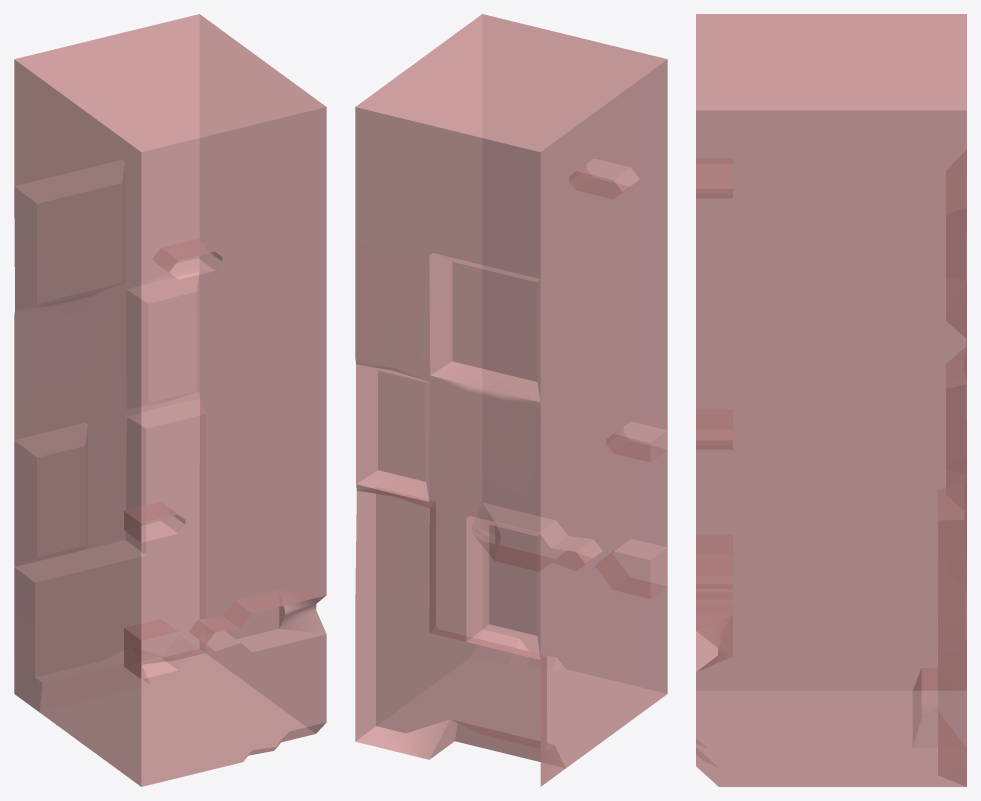
Rendered from Building33.fbx.
3 views of the same model, side by side, from view 1: azimuth 30°, elevation 25°; view 2: azimuth 150°, elevation 25°; view 3: azimuth 270°, elevation 25° (orthographic). The views are drawn at different scales.
Parts seen in each view (by area): view 1: pCube1; view 2: pCube1; view 3: pCube1.
Part boxes in pixels (box(x1,y1,x2,y2)): pCube1: box(14, 14, 326, 786); pCube1: box(355, 14, 667, 786); pCube1: box(696, 14, 966, 786).
Size of the model in its own units: 80.78 by 264 by 95.96.
